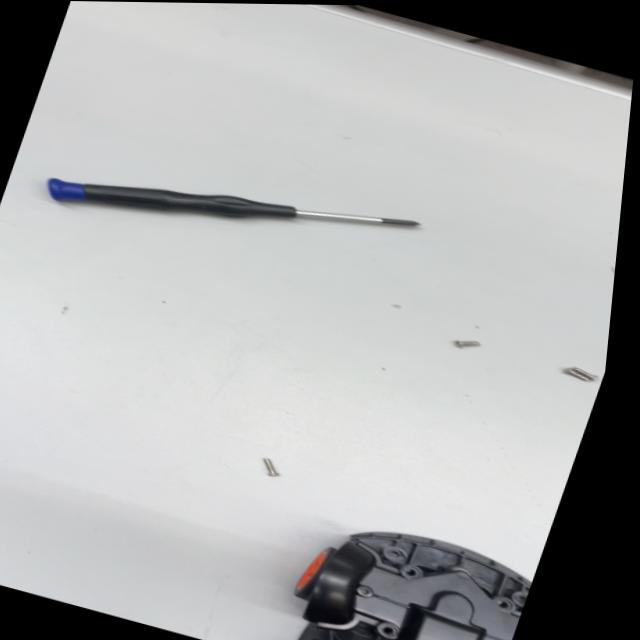screw: (238, 449, 290, 485), (444, 327, 493, 361), (552, 359, 600, 390)
screw_driver: (12, 117, 426, 296)
